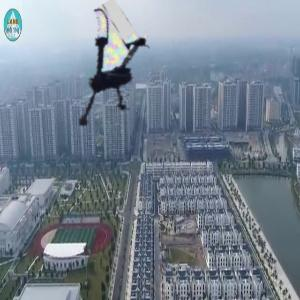drone: (41, 17, 169, 145)
